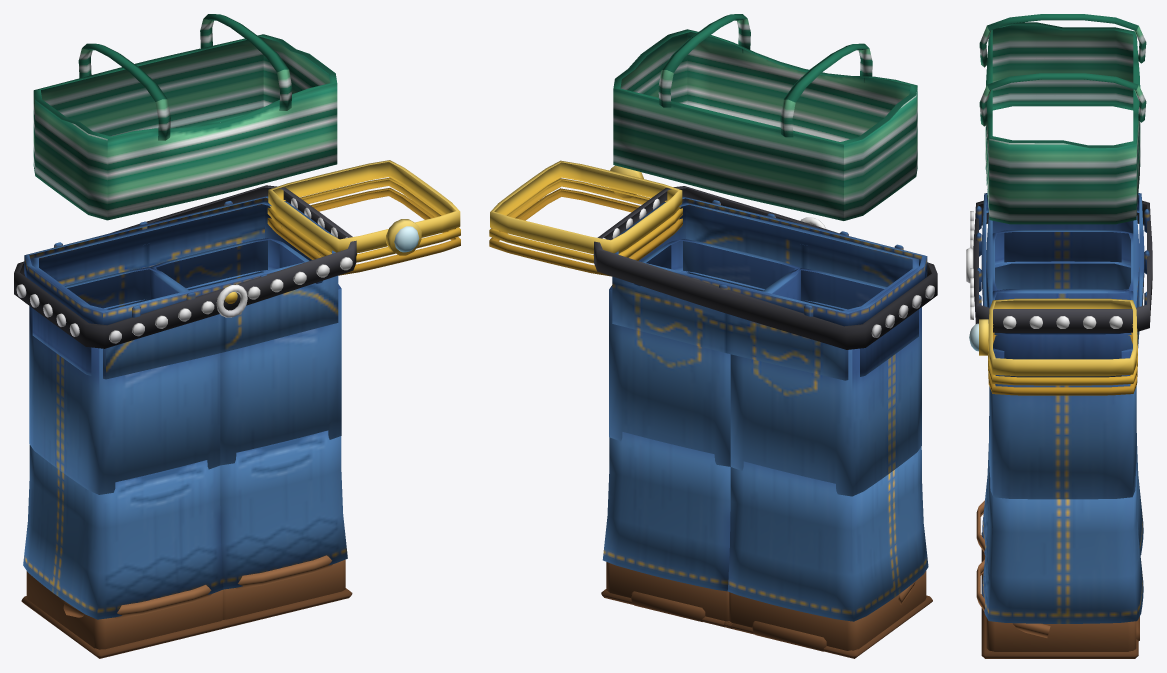
The model's file is vetements_nami.fbx.
3 renders of one model, left to right at view 1: azimuth 30°, elevation 25°; view 2: azimuth 150°, elevation 25°; view 3: azimuth 270°, elevation 25°, orthographic.
Parts seen in each view (by area): view 1: Vet_UpperTorso, Vet_LowerTorso, Vet_RightLowerLeg, Vet_RightUpperLeg, Vet_LeftUpperLeg, Vet_LeftLowerLeg, Vet_LeftLowerArm, Vet_RightFoot, Vet_LeftFoot; view 2: Vet_UpperTorso, Vet_LowerTorso, Vet_RightLowerLeg, Vet_RightUpperLeg, Vet_LeftUpperLeg, Vet_LeftLowerLeg, Vet_LeftLowerArm, Vet_RightFoot, Vet_LeftFoot; view 3: Vet_UpperTorso, Vet_LeftLowerLeg, Vet_LeftUpperLeg, Vet_LowerTorso, Vet_RightUpperLeg, Vet_LeftLowerArm, Vet_LeftFoot, Vet_RightLowerLeg, Vet_RightFoot.
Part boxes in pixels (box(x1,y1,x2,y2)): Vet_UpperTorso: box(33, 14, 337, 220); Vet_LowerTorso: box(14, 185, 356, 379); Vet_RightLowerLeg: box(23, 445, 223, 619); Vet_RightUpperLeg: box(29, 267, 220, 494); Vet_LeftUpperLeg: box(150, 238, 341, 465); Vet_LeftLowerLeg: box(220, 430, 347, 589); Vet_LeftLowerArm: box(267, 160, 460, 275); Vet_RightFoot: box(21, 571, 229, 658); Vet_LeftFoot: box(221, 555, 352, 629); Vet_UpperTorso: box(613, 14, 917, 220); Vet_LowerTorso: box(593, 186, 937, 380); Vet_RightLowerLeg: box(727, 446, 928, 621); Vet_RightUpperLeg: box(730, 268, 921, 496); Vet_LeftUpperLeg: box(609, 239, 800, 466); Vet_LeftLowerLeg: box(602, 432, 730, 591); Vet_LeftLowerArm: box(489, 160, 682, 276); Vet_RightFoot: box(723, 571, 932, 658); Vet_LeftFoot: box(601, 562, 732, 629); Vet_UpperTorso: box(979, 14, 1146, 224); Vet_LeftLowerLeg: box(982, 464, 1143, 623); Vet_LeftUpperLeg: box(989, 288, 1136, 499); Vet_LowerTorso: box(966, 193, 1152, 377); Vet_RightUpperLeg: box(992, 229, 1133, 299); Vet_LeftLowerArm: box(969, 298, 1137, 395); Vet_LeftFoot: box(976, 559, 1139, 658); Vet_RightLowerLeg: box(982, 416, 1143, 555); Vet_RightFoot: box(976, 500, 985, 594).
Bounding box in the file's own units: 3.15 × 4.37 × 1.33.
Materials: 1 (1 with a texture image).
